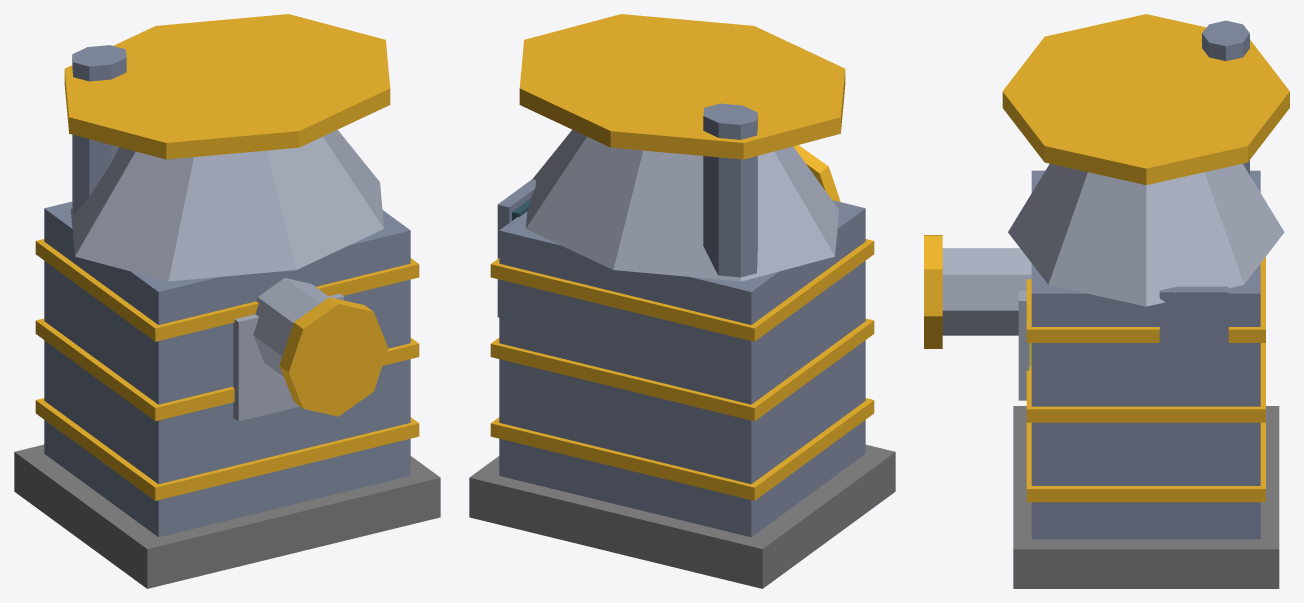
File: refiner.glb
The picture shows the model from 3 angles, left to right: view 1: azimuth 30°, elevation 25°; view 2: azimuth 150°, elevation 25°; view 3: azimuth 270°, elevation 25°; orthographic projection.
Visible parts, largest first — view 1: refiner; view 2: refiner; view 3: refiner.
Part boxes in pixels (x1,y1,x2,y2): refiner: (14,14,440,588); refiner: (469,14,895,588); refiner: (924,14,1289,588).
Size of the model in its own units: 1 by 1.33 by 1.
